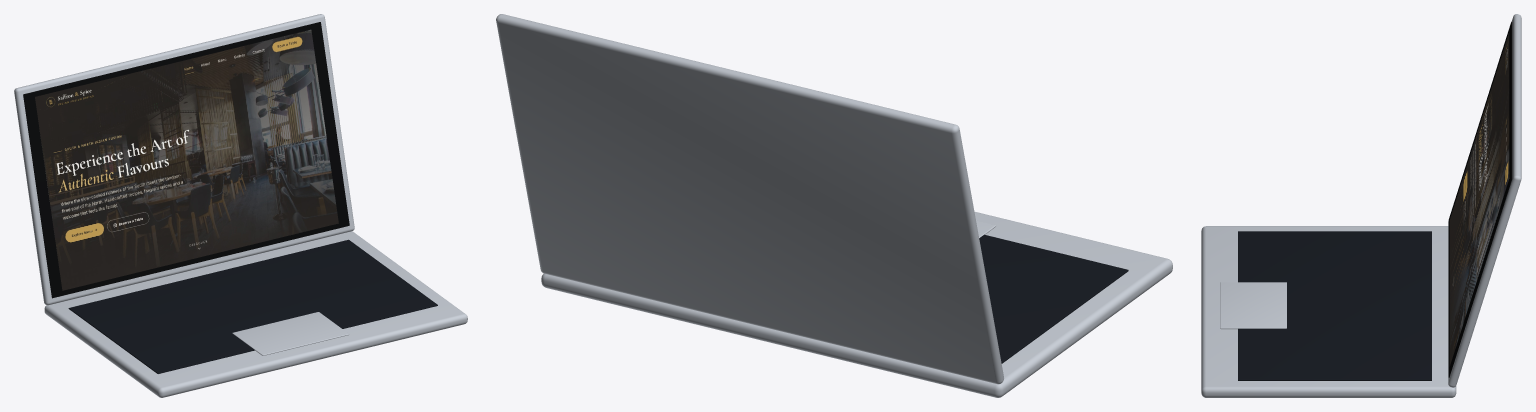
File: webnest-laptop.glb
3 views of the same model, side by side, from view 1: azimuth 30°, elevation 25°; view 2: azimuth 150°, elevation 25°; view 3: azimuth 270°, elevation 25° (orthographic). The views are drawn at different scales.
Parts seen in each view (by area): view 1: LP_screen, LP_deck, LP_base, LP_bezel, LP_lid, LP_pad; view 2: LP_lid, LP_base, LP_deck; view 3: LP_deck, LP_base, LP_screen, LP_lid, LP_pad, LP_bezel.
Boxes of the visible parts, left/top/right/bottom form: LP_screen: left=35, top=29, right=338, bottom=290; LP_deck: left=68, top=239, right=437, bottom=373; LP_base: left=44, top=231, right=467, bottom=397; LP_bezel: left=23, top=22, right=349, bottom=298; LP_lid: left=14, top=14, right=354, bottom=305; LP_pad: left=232, top=312, right=349, bottom=355; LP_lid: left=496, top=14, right=1003, bottom=384; LP_base: left=541, top=211, right=1172, bottom=397; LP_deck: left=979, top=234, right=1128, bottom=363; LP_deck: left=1238, top=231, right=1431, bottom=380; LP_base: left=1201, top=226, right=1456, bottom=397; LP_screen: left=1449, top=32, right=1509, bottom=366; LP_lid: left=1448, top=14, right=1521, bottom=387; LP_pad: left=1220, top=282, right=1286, bottom=329; LP_bezel: left=1448, top=21, right=1512, bottom=377.
Size of the model in its own units: 3.2 by 2.03 by 2.64.
4 materials, 1 textured.
